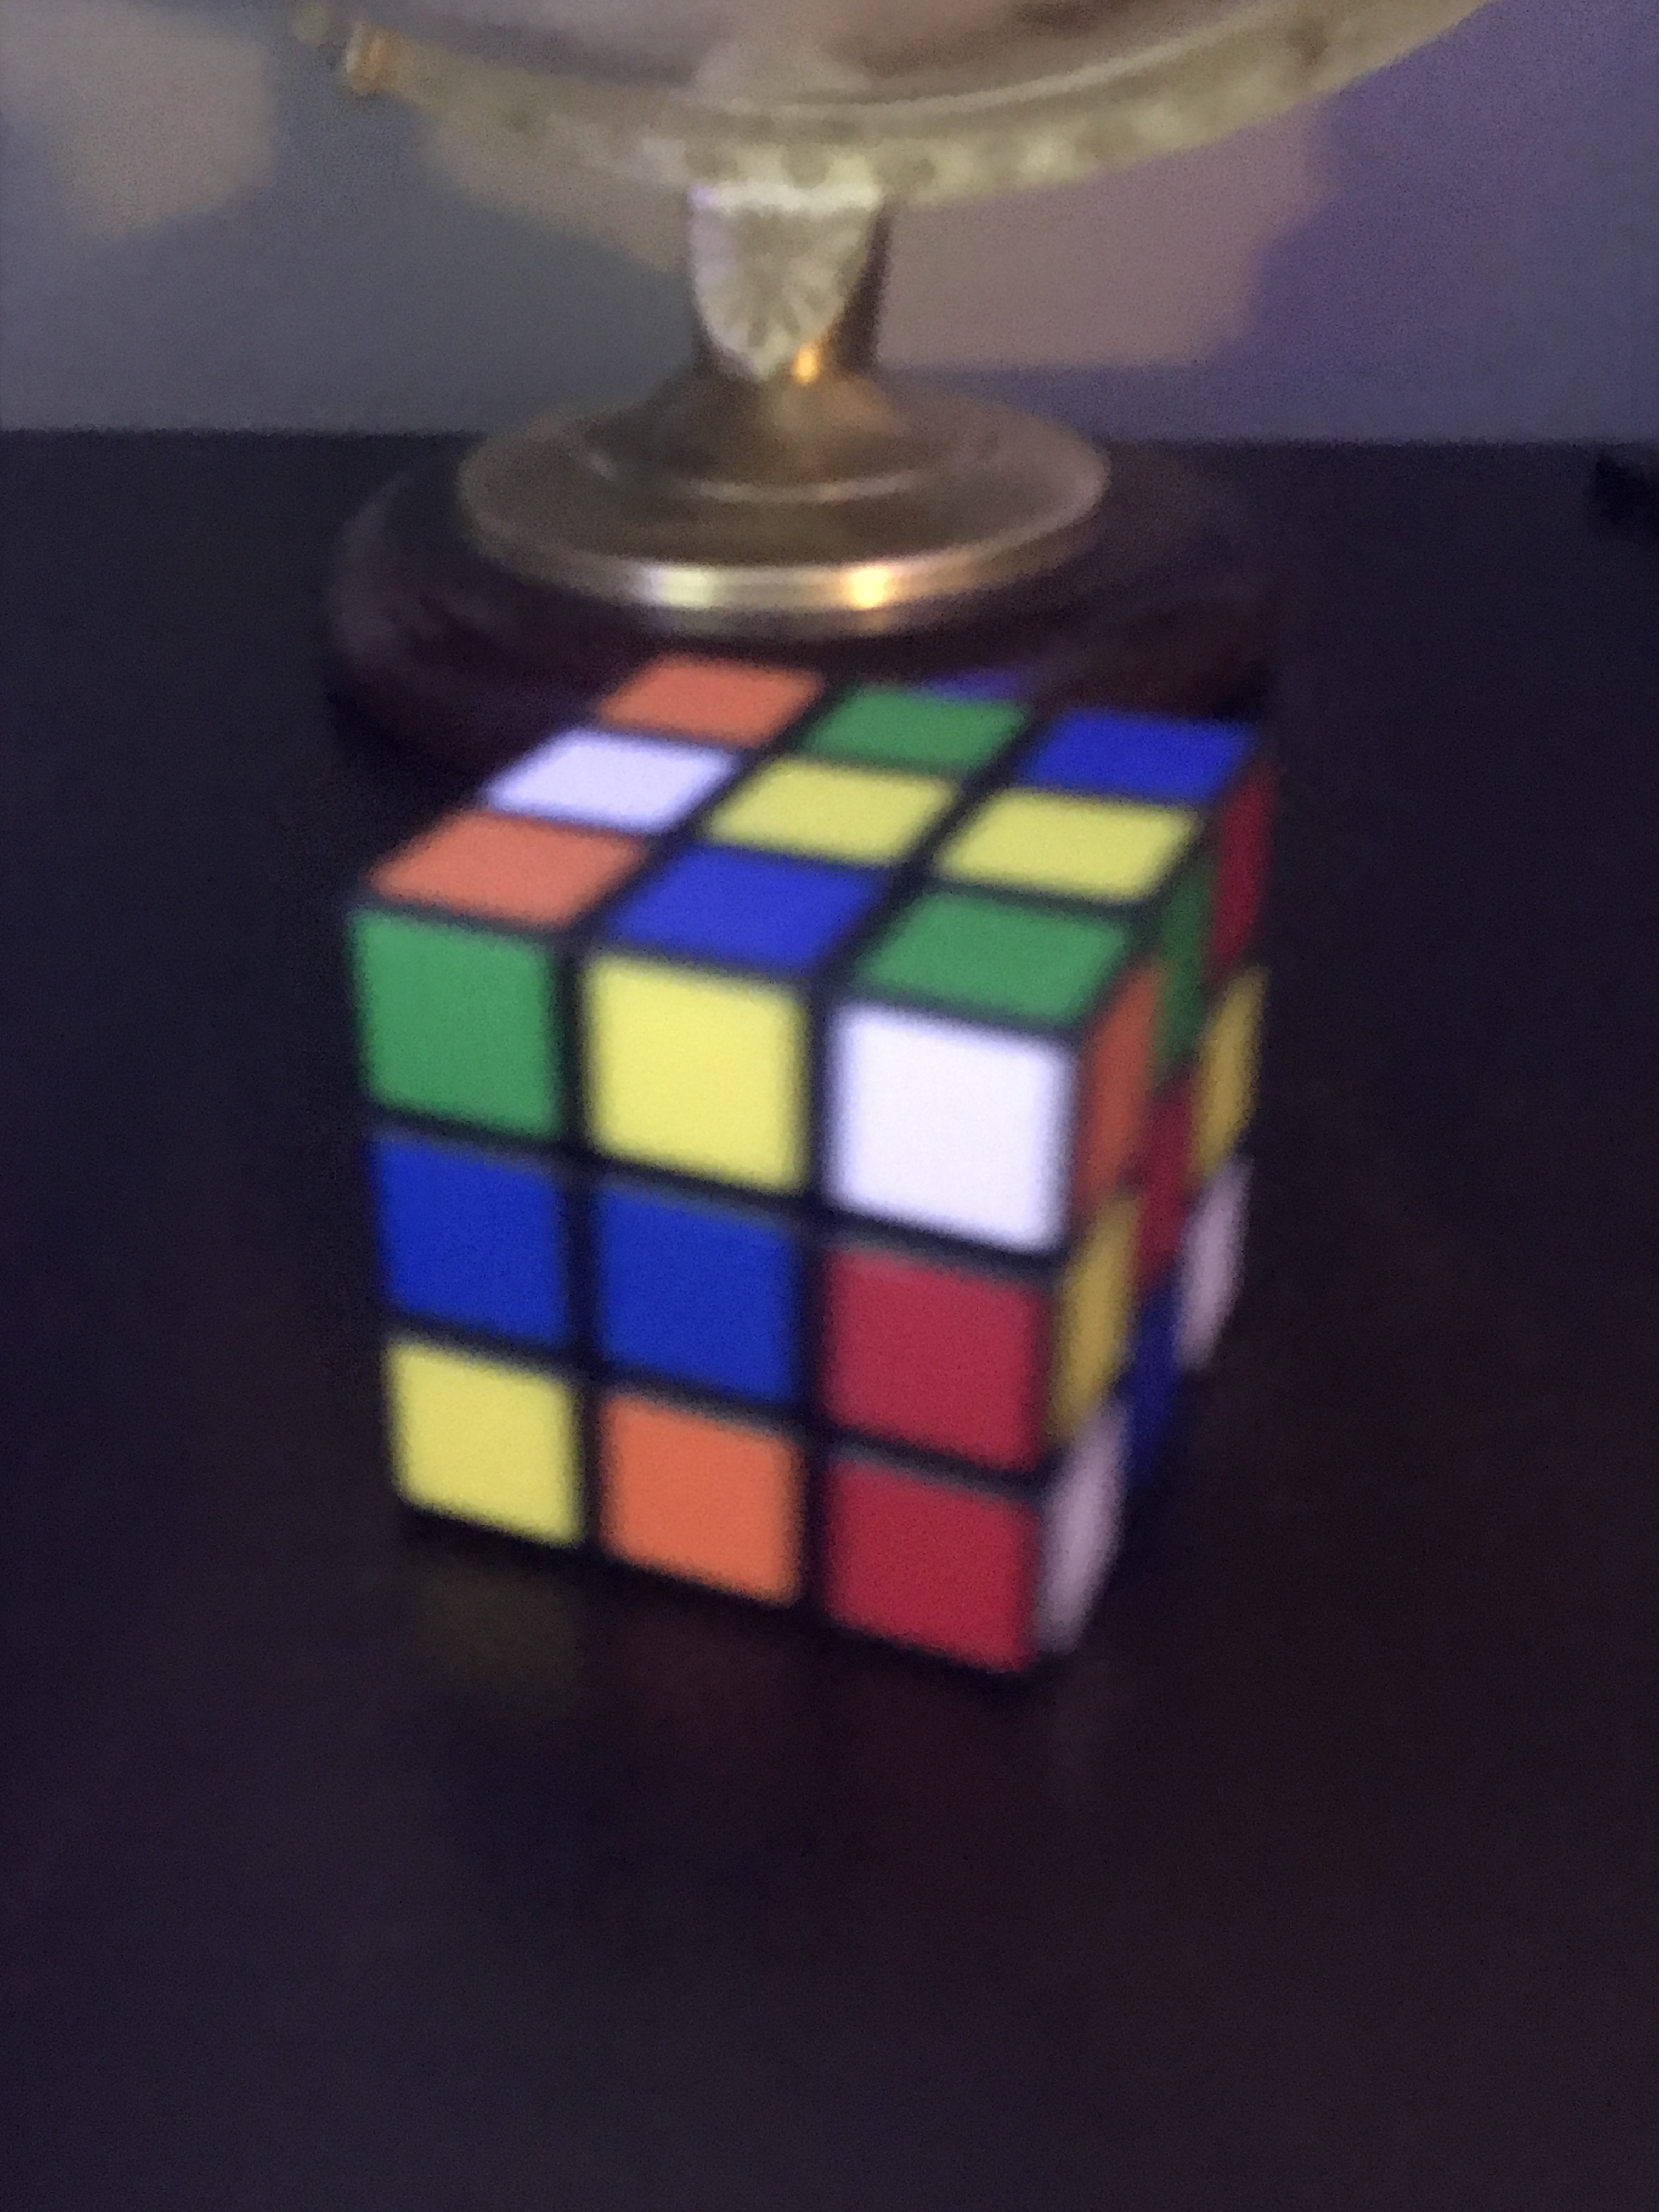rubiks: (333, 634, 1269, 1693)
